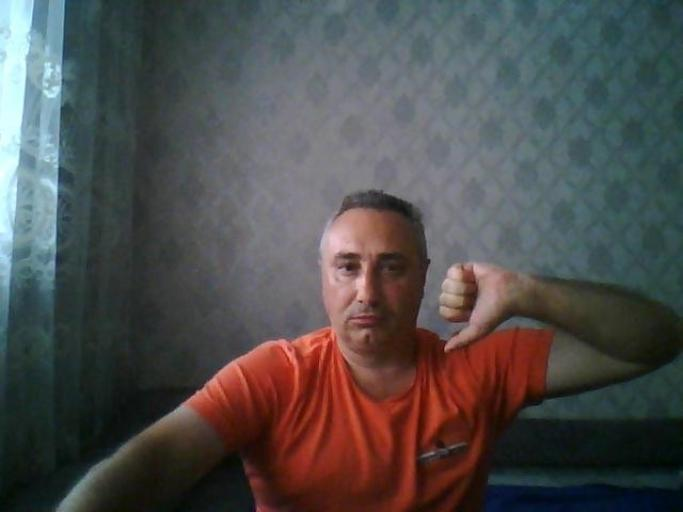dislike: (432, 253, 523, 357)
